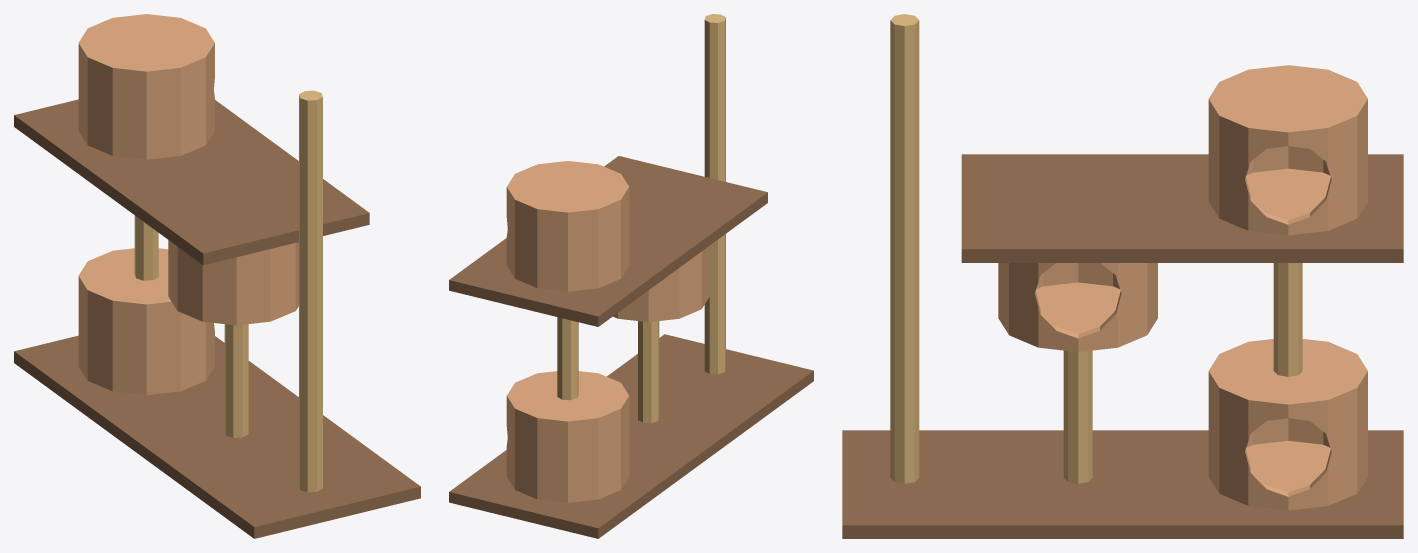
The model's file is CatScratchingThing_1.fbx.
3 renders of one model, left to right at view 1: azimuth 30°, elevation 25°; view 2: azimuth 150°, elevation 25°; view 3: azimuth 270°, elevation 25°, orthographic. The views are drawn at different scales.
Visible parts, largest first — view 1: pCube1, pCube2, pCylinder14, pCylinder9, pCylinder11, pCylinder12, pCylinder13, pCylinder10; view 2: pCube1, pCube2, pCylinder14, pCylinder9, pCylinder11, pCylinder12, pCylinder13, pCylinder10; view 3: pCube1, pCube2, pCylinder14, pCylinder9, pCylinder11, pCylinder12, pCylinder13, pCylinder10.
Part boxes in pixels (x1=…): pCube1: x1=14, y1=335, x2=420, y2=538; pCube2: x1=14, y1=99, x2=369, y2=265; pCylinder14: x1=78, y1=14, x2=214, y2=159; pCylinder9: x1=78, y1=248, x2=214, y2=395; pCylinder11: x1=299, y1=90, x2=322, y2=492; pCylinder12: x1=168, y1=240, x2=298, y2=325; pCylinder13: x1=224, y1=324, x2=248, y2=437; pCylinder10: x1=134, y1=215, x2=158, y2=280; pCube1: x1=449, y1=334, x2=813, y2=538; pCube2: x1=449, y1=156, x2=767, y2=326; pCylinder14: x1=506, y1=161, x2=629, y2=291; pCylinder9: x1=506, y1=371, x2=629, y2=502; pCylinder11: x1=704, y1=14, x2=725, y2=374; pCylinder12: x1=613, y1=245, x2=709, y2=322; pCylinder13: x1=638, y1=321, x2=659, y2=423; pCylinder10: x1=557, y1=317, x2=578, y2=400; pCube1: x1=842, y1=430, x2=1403, y2=538; pCube2: x1=961, y1=154, x2=1403, y2=262; pCylinder14: x1=1208, y1=65, x2=1367, y2=235; pCylinder9: x1=1208, y1=339, x2=1367, y2=510; pCylinder11: x1=890, y1=14, x2=919, y2=483; pCylinder12: x1=998, y1=263, x2=1157, y2=352; pCylinder13: x1=1063, y1=350, x2=1092, y2=483; pCylinder10: x1=1273, y1=263, x2=1302, y2=376.
Size of the model in its own units: 0.01 by 0.0232 by 0.025.
